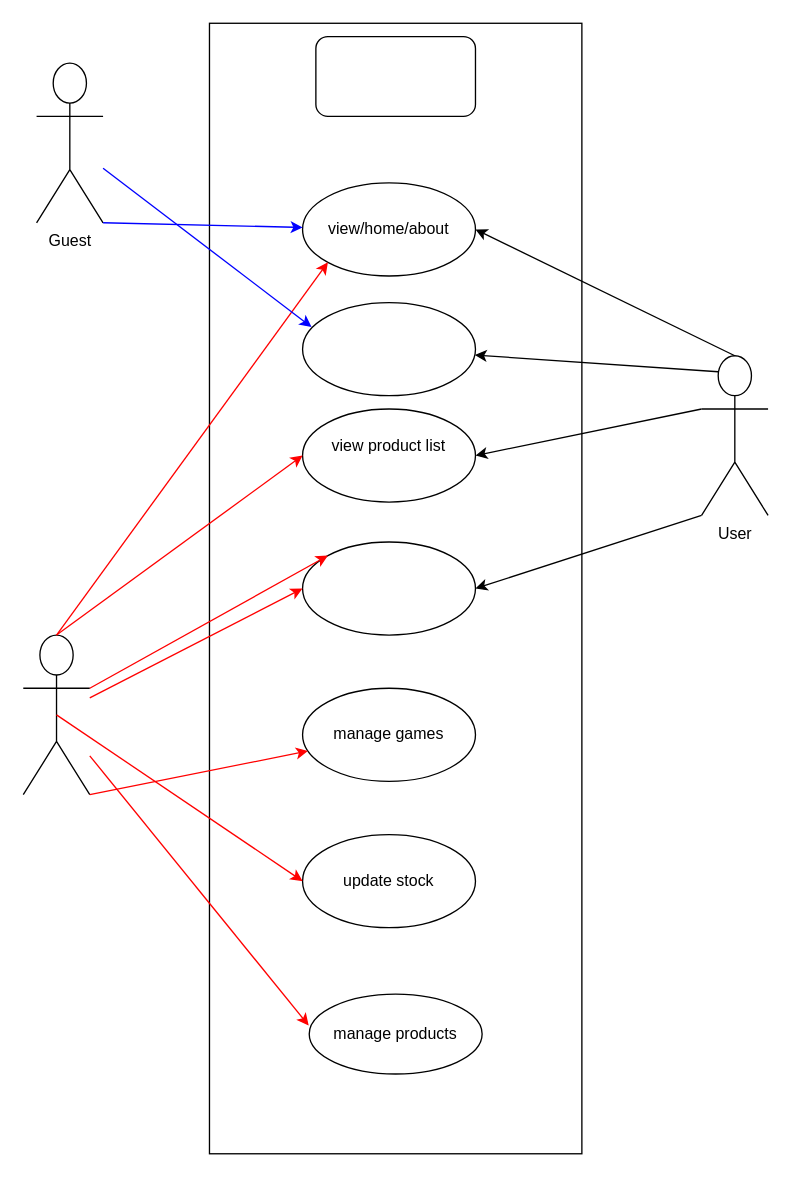
This 791x1177 diagram has some shape labels left out. Here are the shapes that lost their labels. From the top down, the box of each, then its label:
(315, 35, 475, 116): Gameshop
(301, 301, 475, 396): Signup/Login
(301, 541, 475, 635): view game list
(22, 634, 90, 795): Admin
